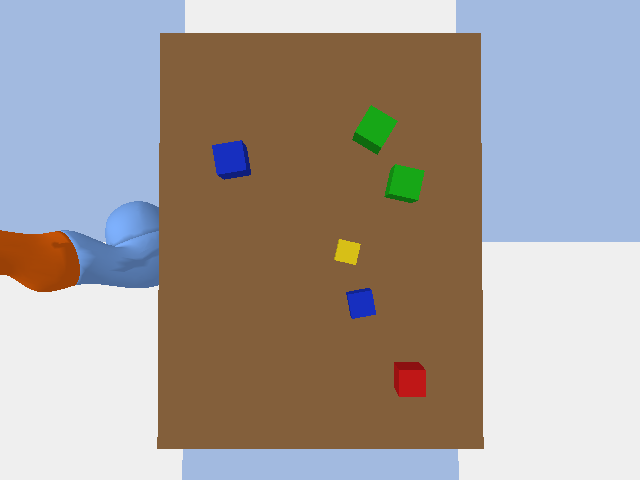blue_obj: (212, 140, 250, 179), (346, 288, 375, 318)
green_obj: (352, 105, 397, 154), (384, 164, 424, 202)
red_obj: (394, 362, 425, 396)
yellow_obj: (334, 239, 360, 264)
